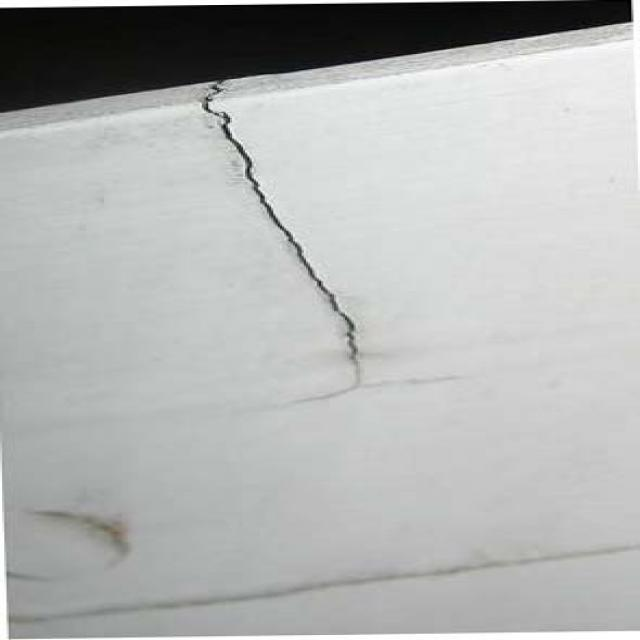crack: (154, 80, 438, 428)
